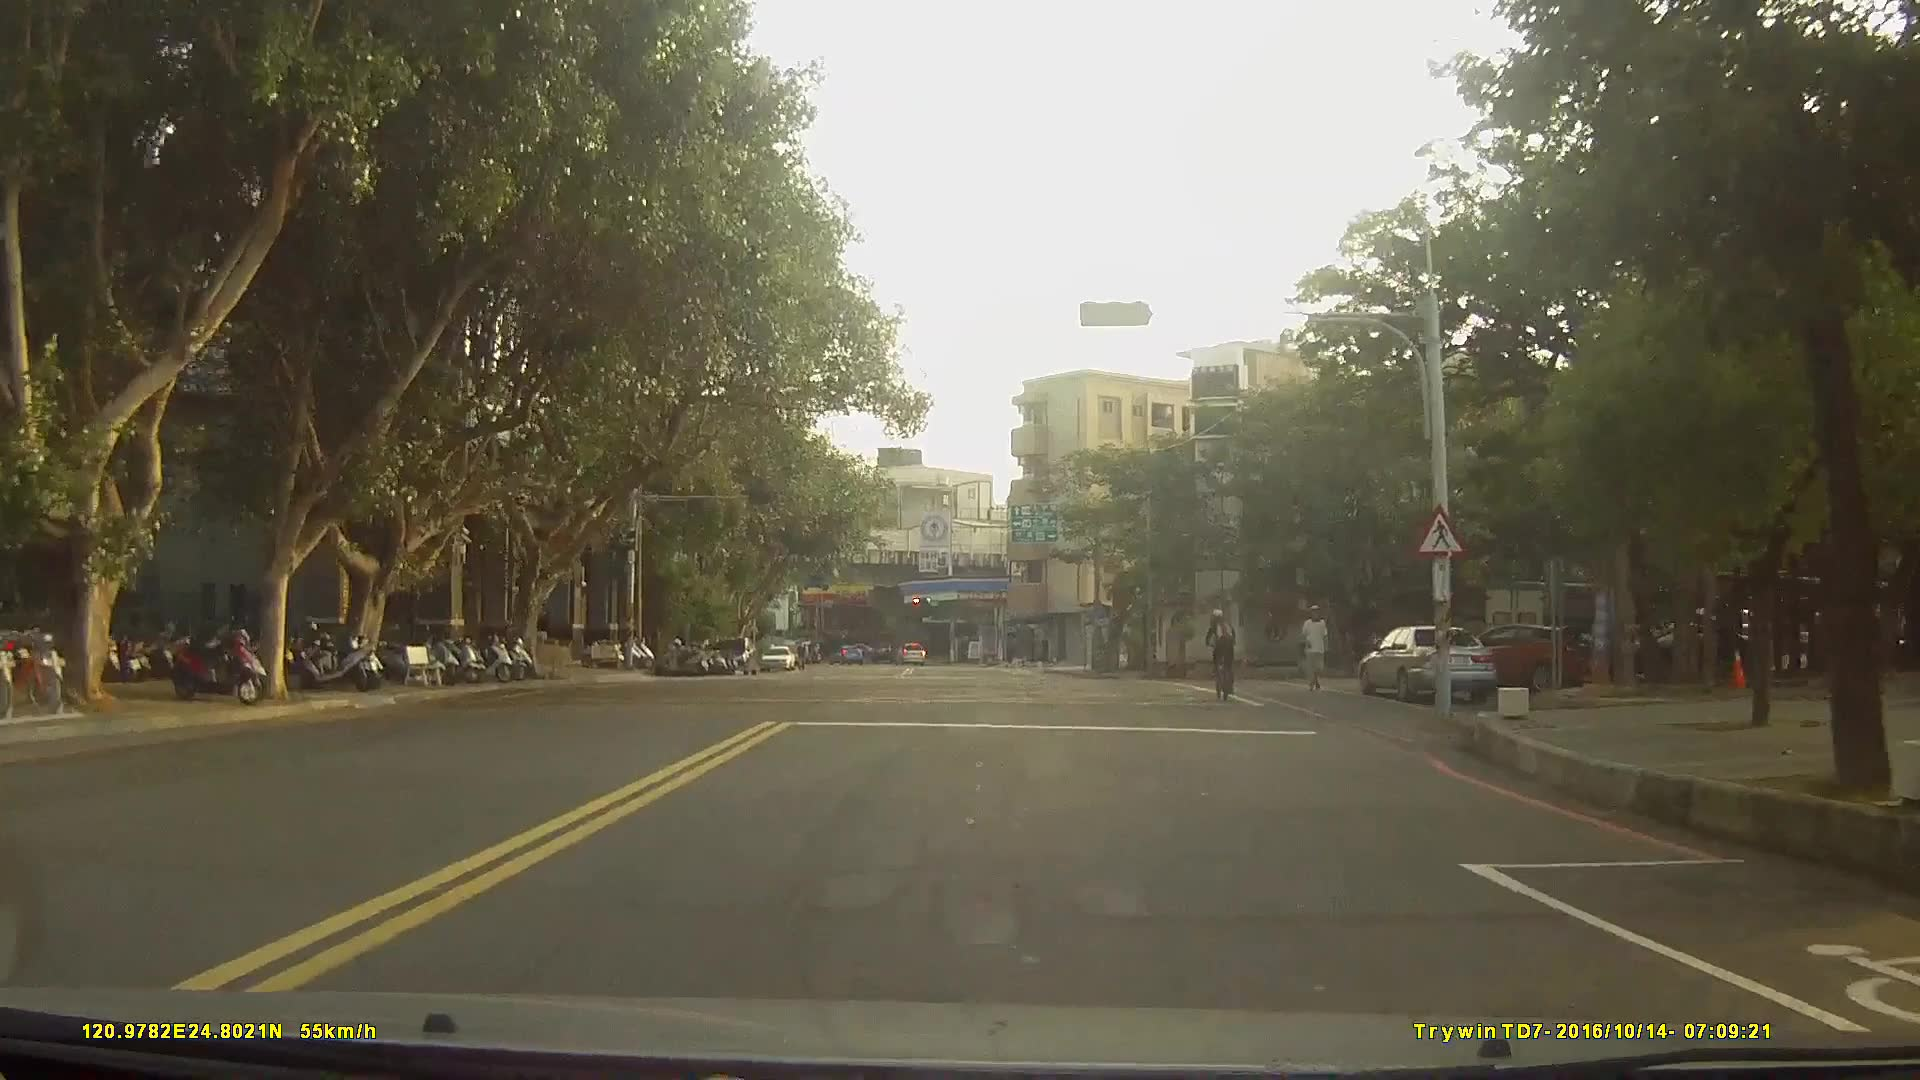pedestrian: (1298, 598, 1334, 702), (533, 611, 553, 644)
rider: (1202, 609, 1237, 703)
vehicle: (1359, 623, 1496, 703), (1446, 622, 1575, 691), (708, 632, 759, 672), (760, 643, 795, 674), (891, 640, 924, 665)
